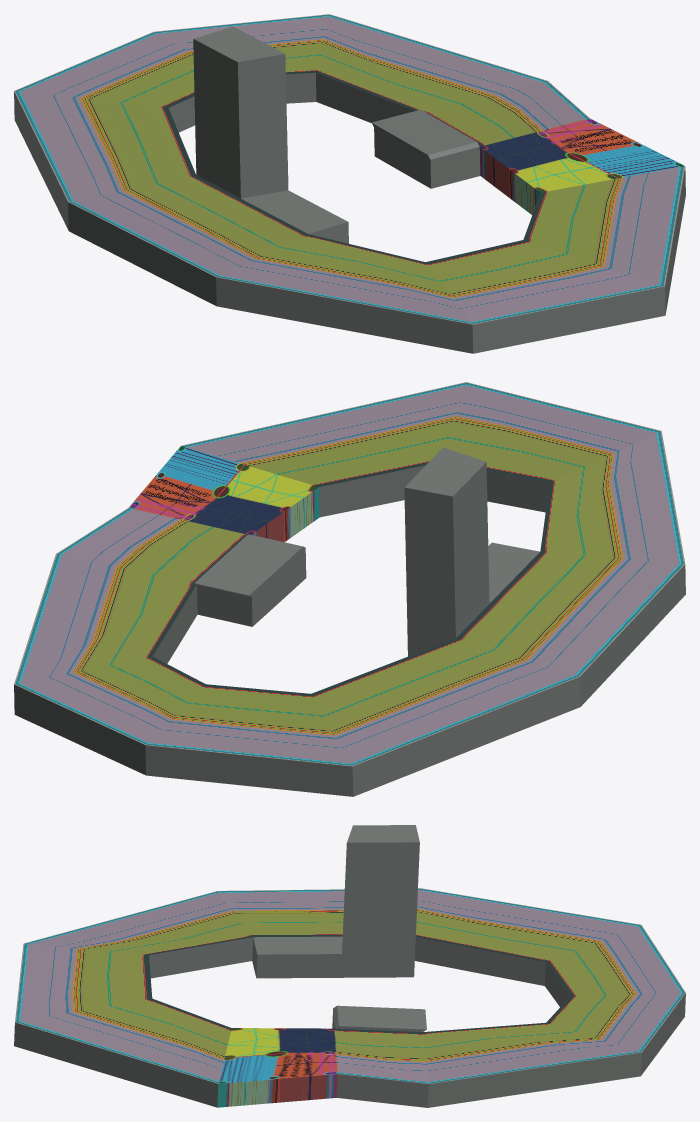
The model's file is baby.obj.
The picture shows the model from 3 angles, top to bottom: view 1: azimuth 30°, elevation 25°; view 2: azimuth 150°, elevation 25°; view 3: azimuth 270°, elevation 25°; orthographic projection. The views are drawn at different scales.
Visible parts, largest first — view 1: Plane; view 2: Plane; view 3: Plane.
Boxes of the visible parts, box(x1,y1,x2,y2) form: Plane: box(14, 14, 685, 353); Plane: box(14, 382, 685, 796); Plane: box(14, 825, 685, 1107).
Bounding box in the file's own units: 133 × 44.79 × 189.
